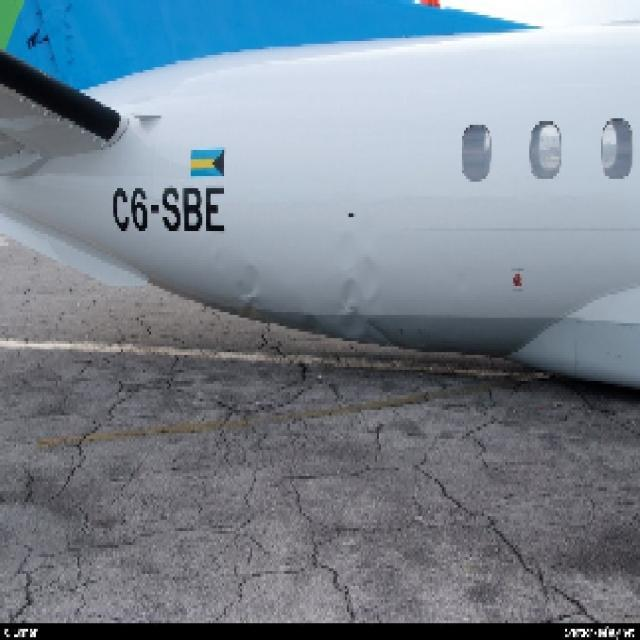dent: (332, 259, 394, 350), (232, 257, 266, 328)
